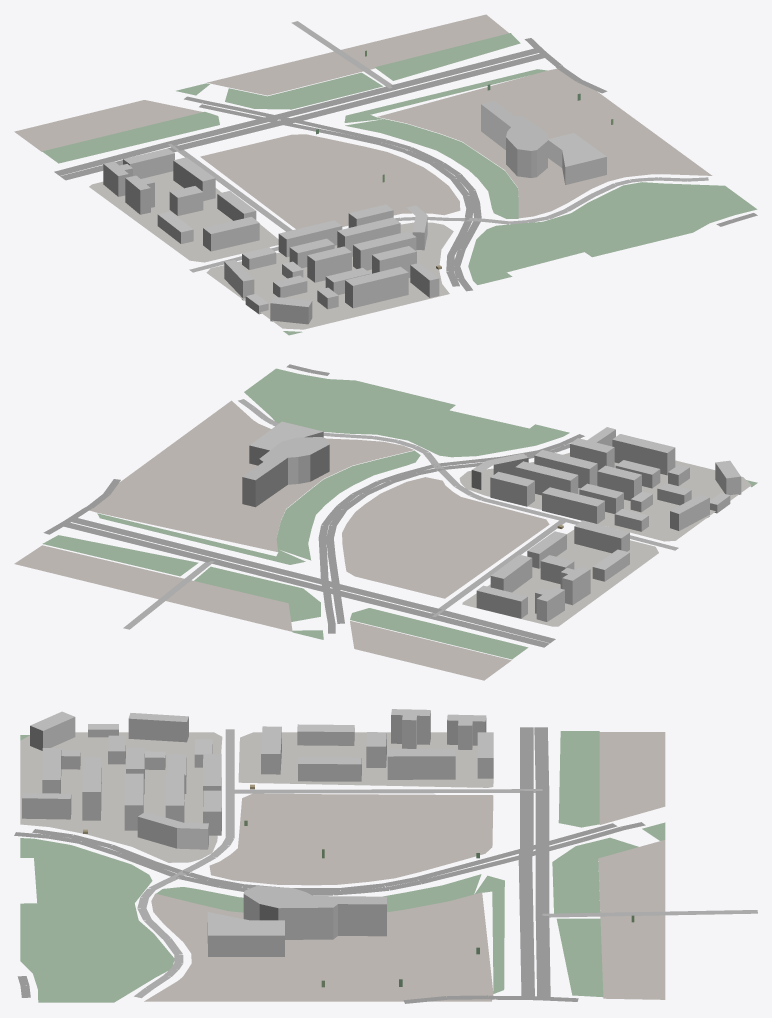
3 renders of one model, top to bottom at view 1: azimuth 30°, elevation 25°; view 2: azimuth 150°, elevation 25°; view 3: azimuth 270°, elevation 25°, orthographic. The views are drawn at different scales.
Bounding box in the file's own units: 518 × 32.16 × 577.
